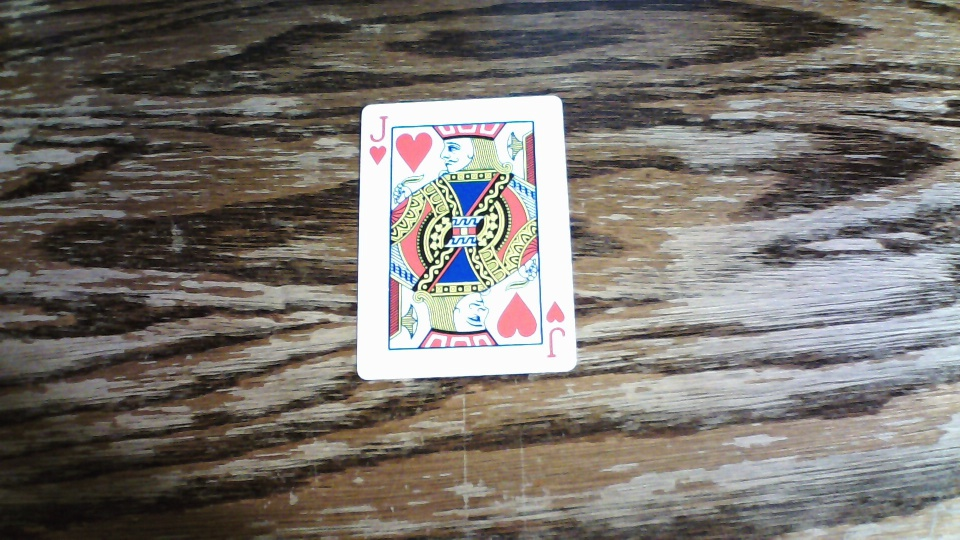jack: (357, 97, 578, 379)
